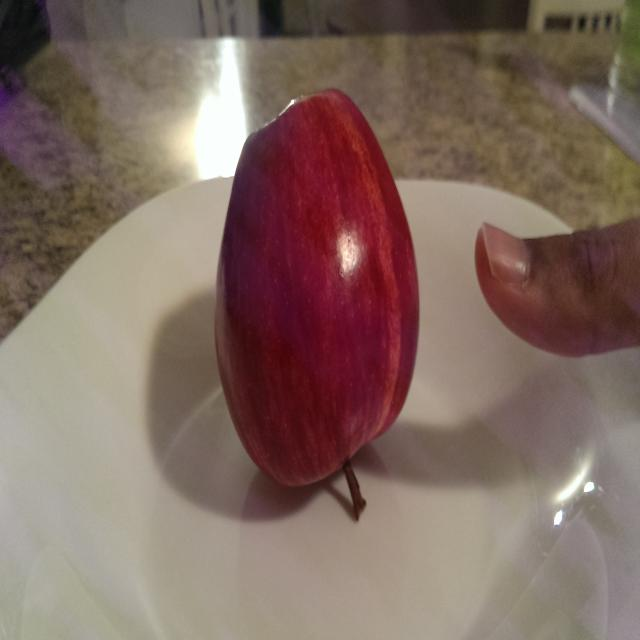apple: (188, 85, 423, 559)
